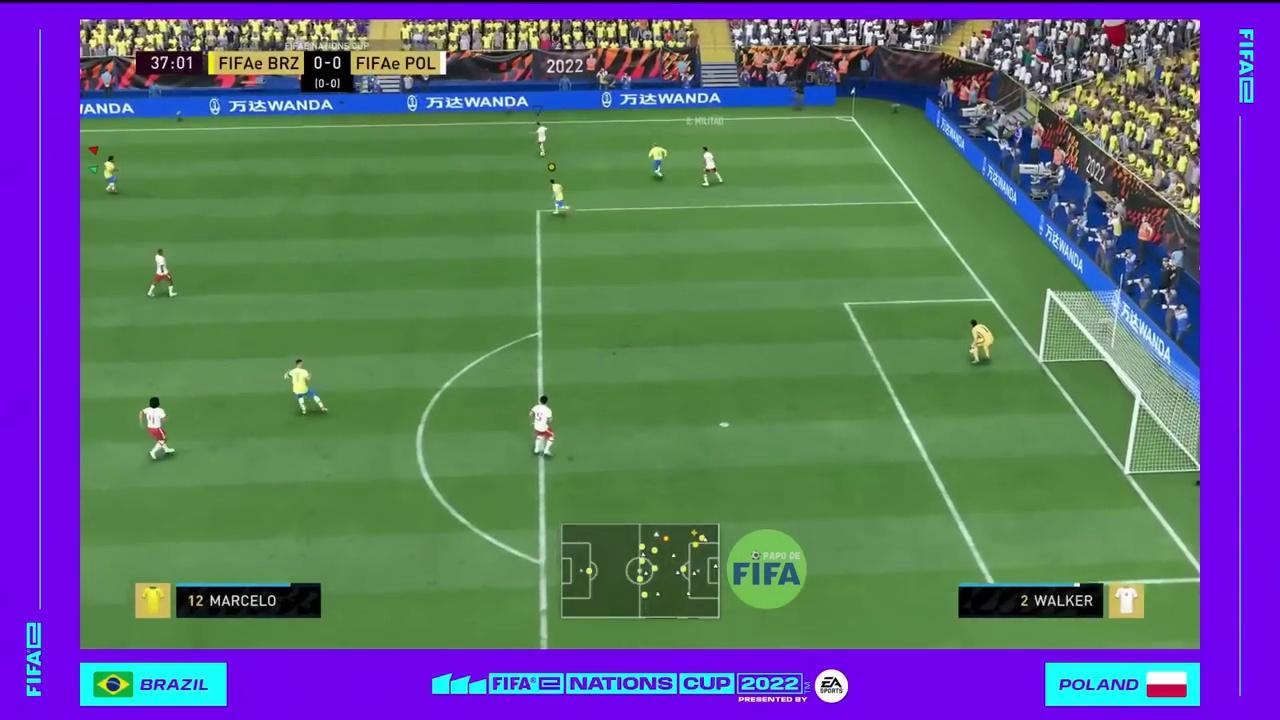scoreboard: (207, 51, 451, 74)
timestamp: (136, 52, 206, 76)
